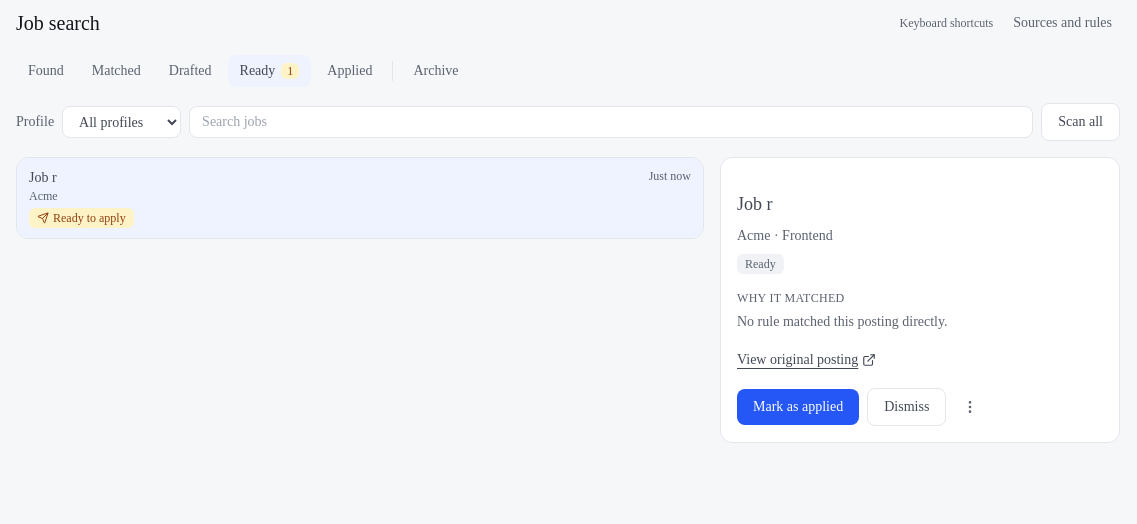
it: PipelineInbox › offers a Dismiss button on the action error banner that clears it
Step 1. Click the button "Mark as applied" → (798, 407), box [737, 389, 859, 425]
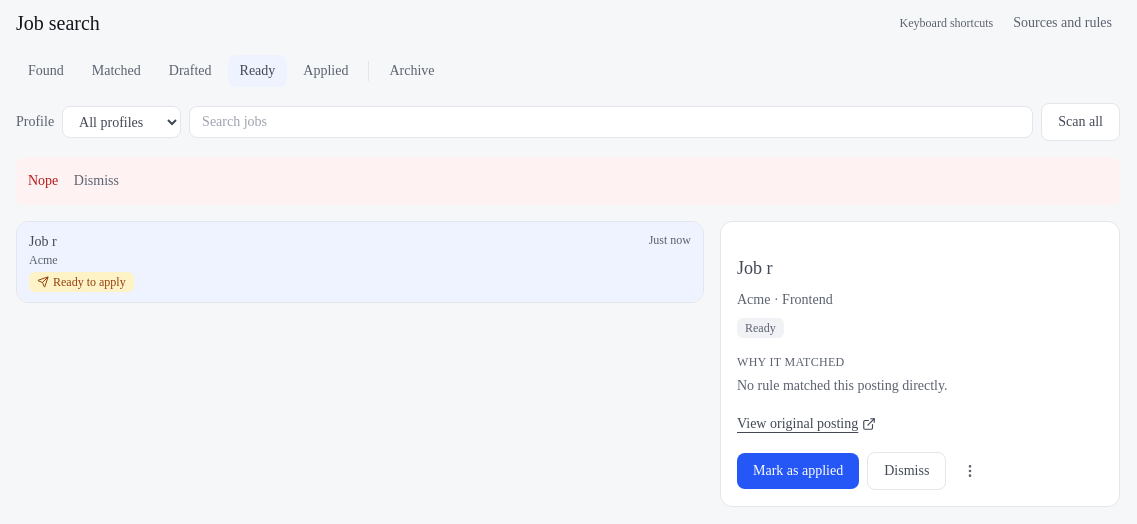
Step 2. Click the button "Dismiss" next to "Nope" → (96, 181), box [62, 165, 131, 197]
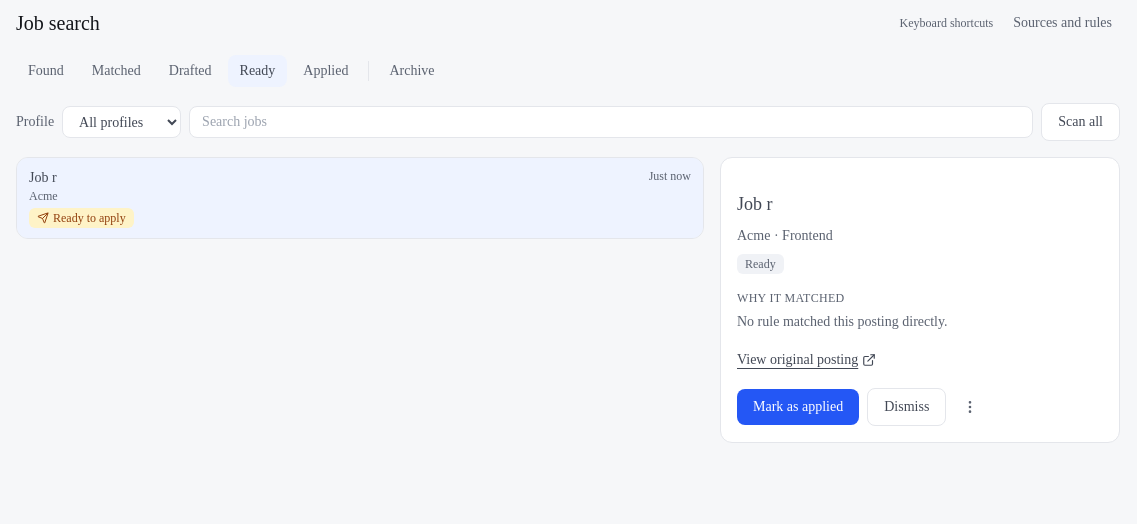
Expected: the message "Nope Dismiss" is gone
